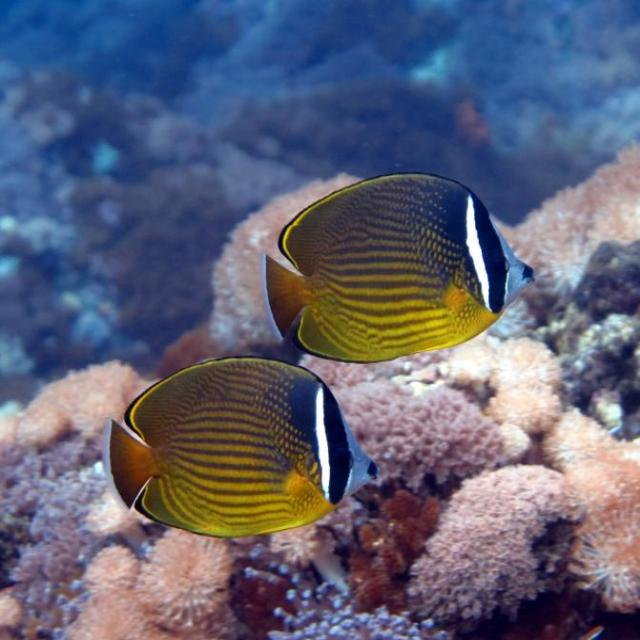ButterflyFish: (268, 173, 536, 362), (109, 354, 380, 535)
